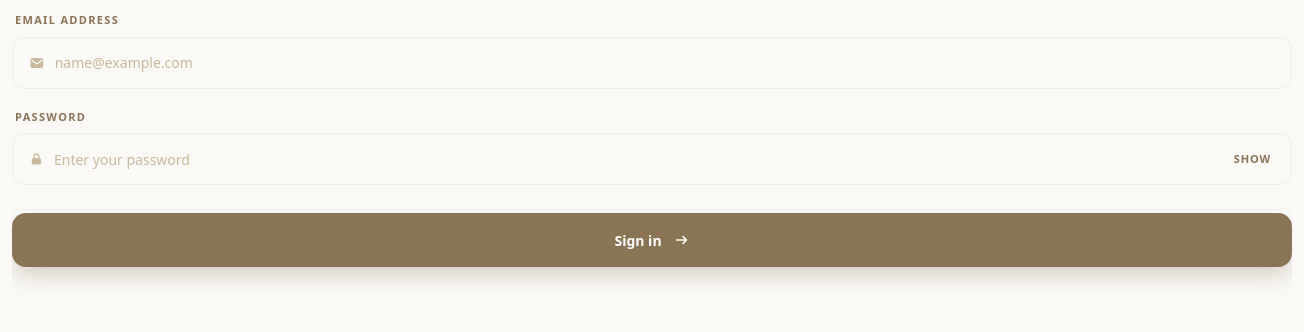
it: LoginForm › shows a generic error when the action throws
Type "ada@example.com" into the field labelled "EMAIL ADDRESS" at (665, 62), box [55, 38, 1275, 88]
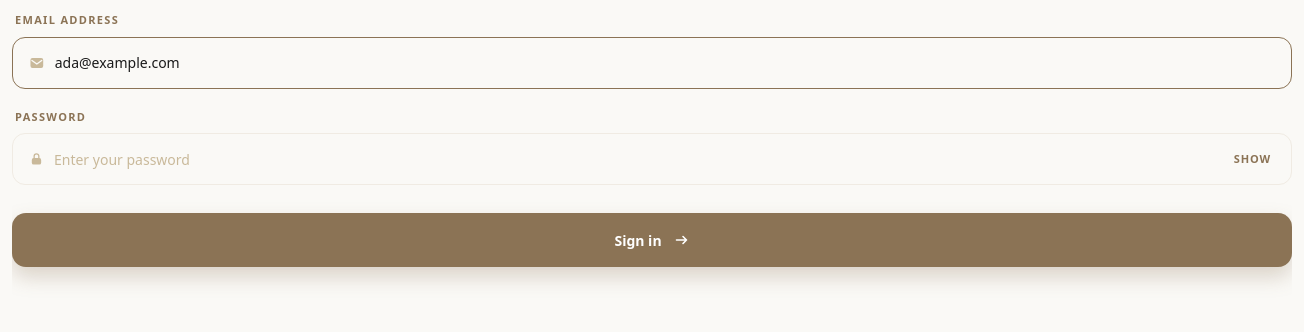
Type "secret" into the password field labelled "PASSWORD" at (637, 159), box [54, 134, 1220, 184]
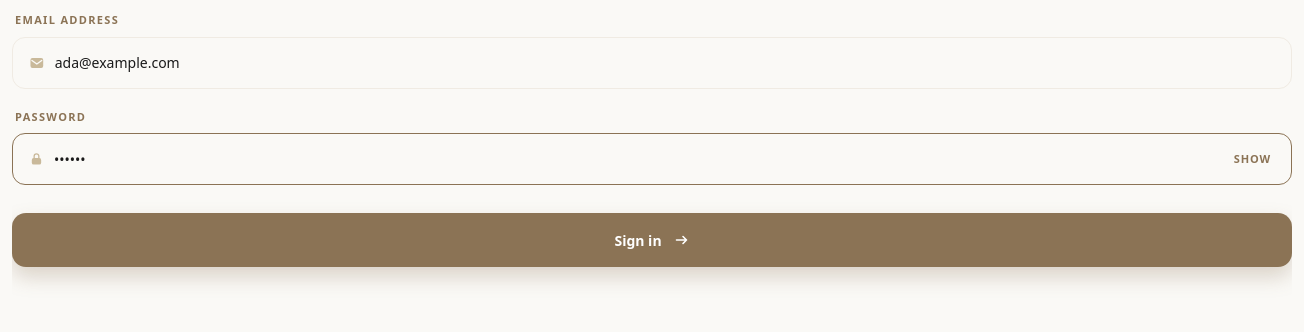
Click the button "Sign in" at (652, 240), box [12, 213, 1292, 267]
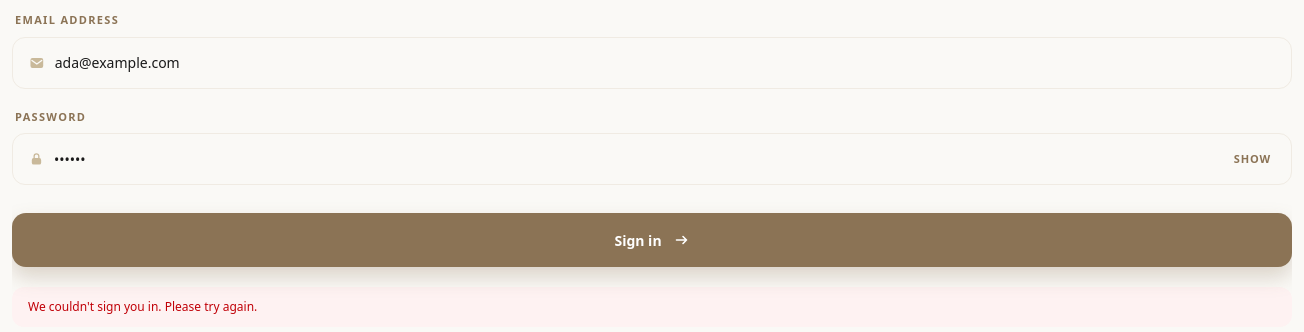
Expected: the message shows "couldn't sign you in", [28, 298, 257, 315]
